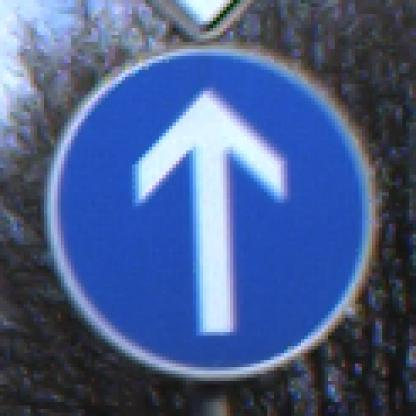AheadOnly: (38, 39, 383, 382)
